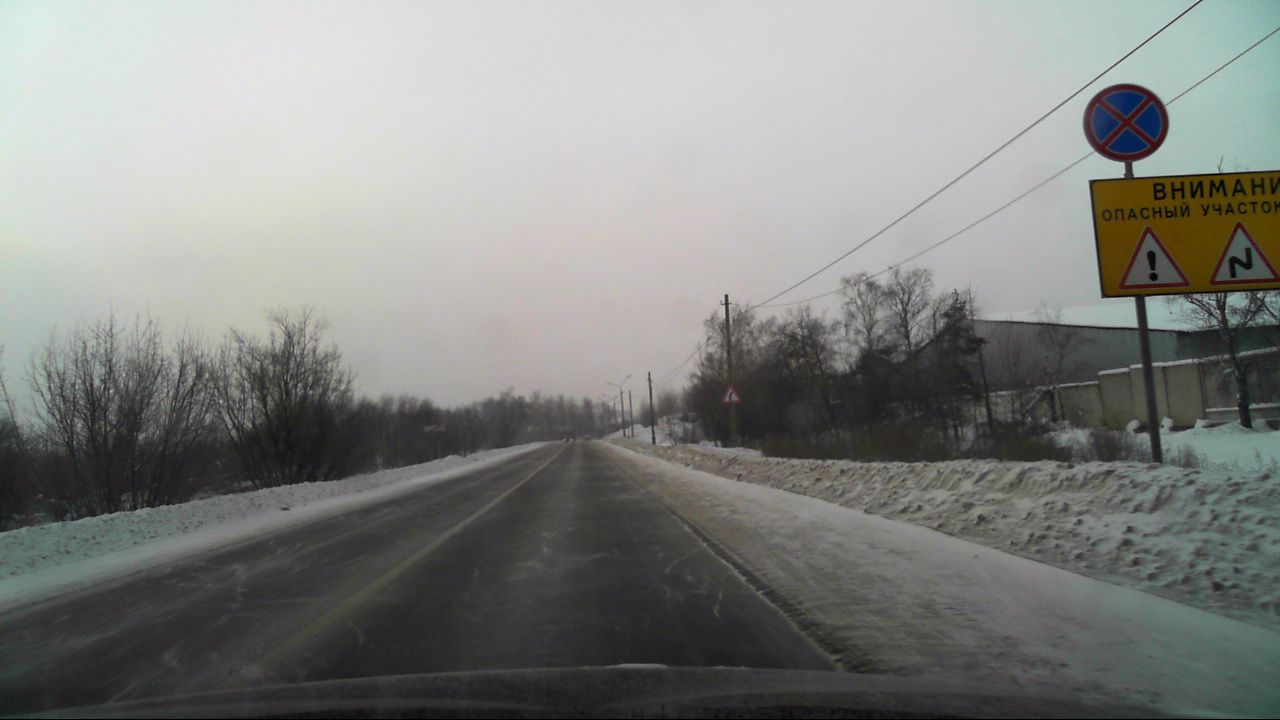No Parking: (1084, 83, 1169, 161)
